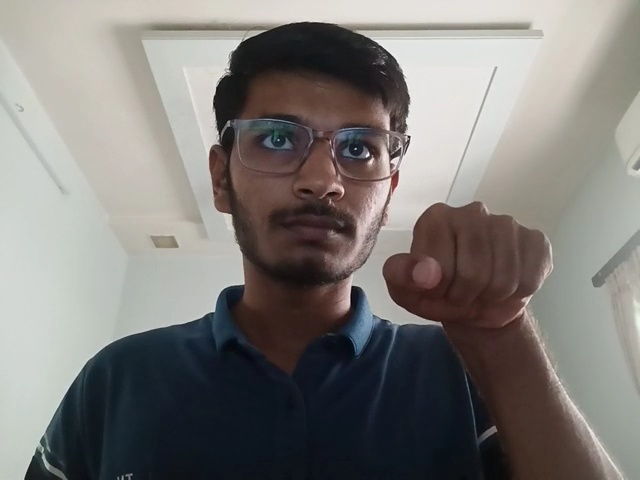Yes: (370, 192, 569, 334)
